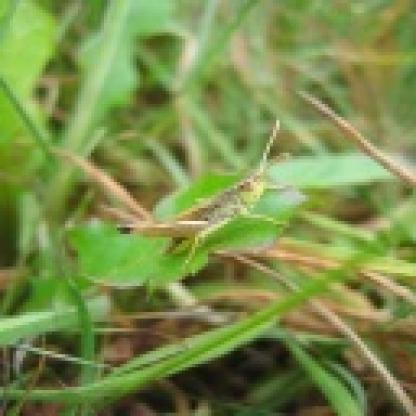grasshopper: (102, 148, 299, 248)
